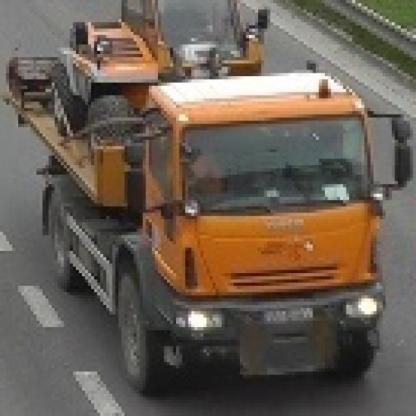truck: (7, 1, 416, 392)
